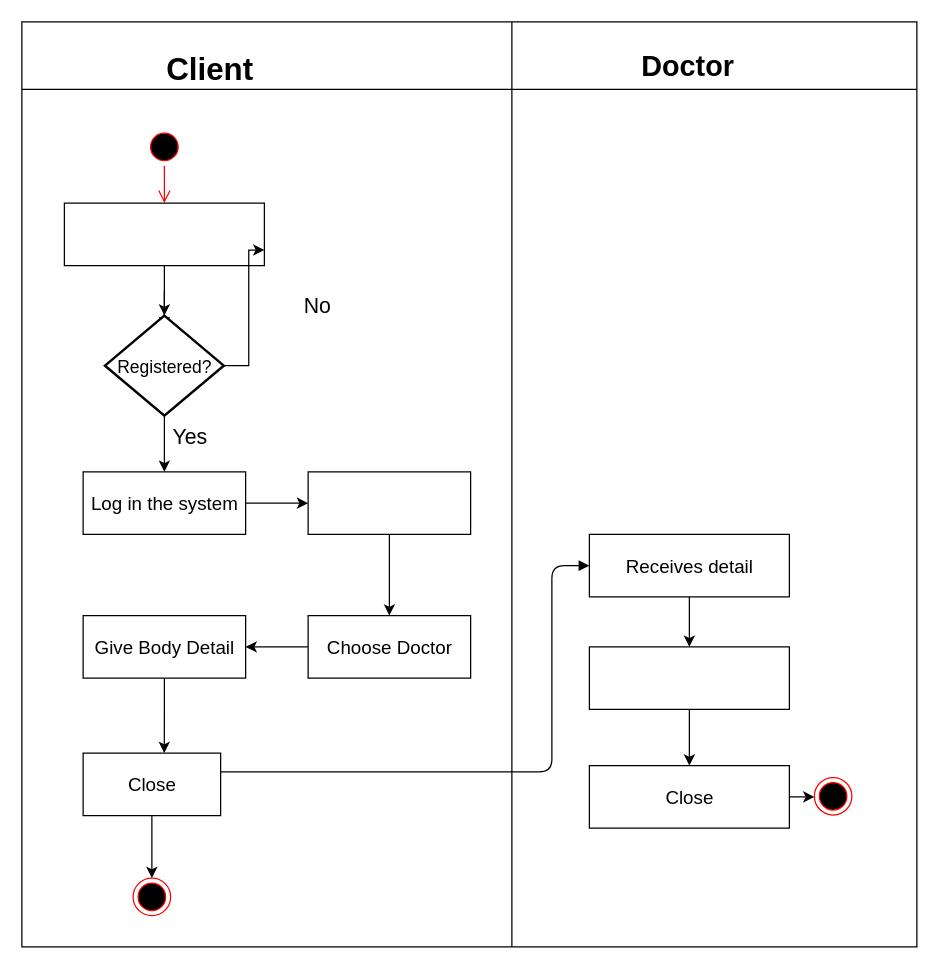
The diagram is 939 pixels wide and 969 high, and some of its shapes have lost their labels. Each missing label, with the centre of its shape:
"Check appointment list" goes at point 688,677.
"Refer doctor list" goes at point 389,502.
"Register into System" goes at point 163,234.
